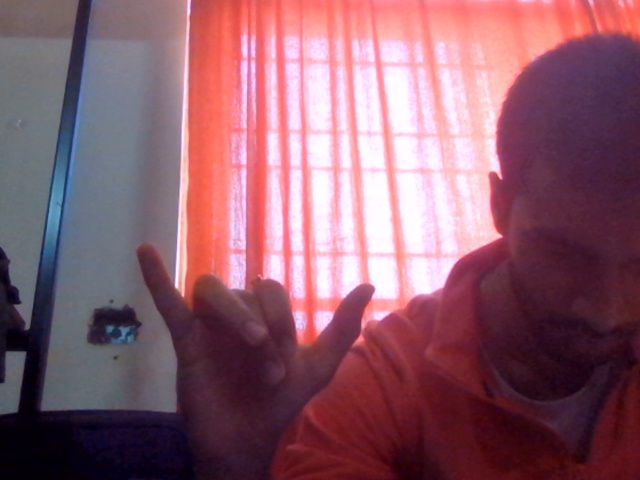Y: (112, 216, 388, 480)
